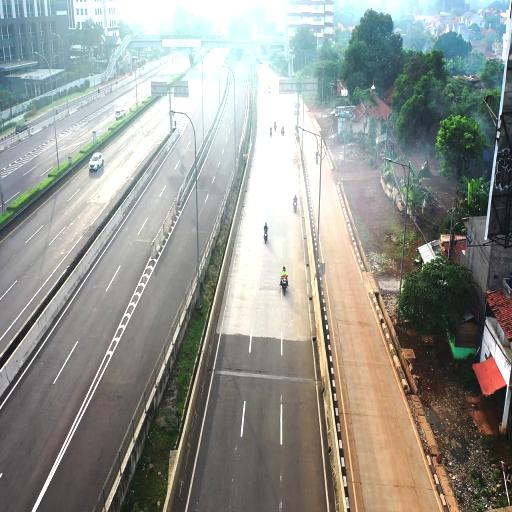vehicle: (89, 150, 104, 176)
